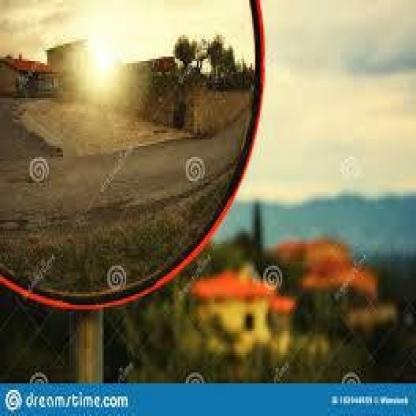other: (64, 17, 136, 96)
